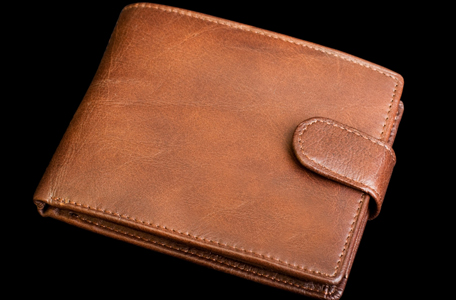monedero: (32, 2, 408, 300)
